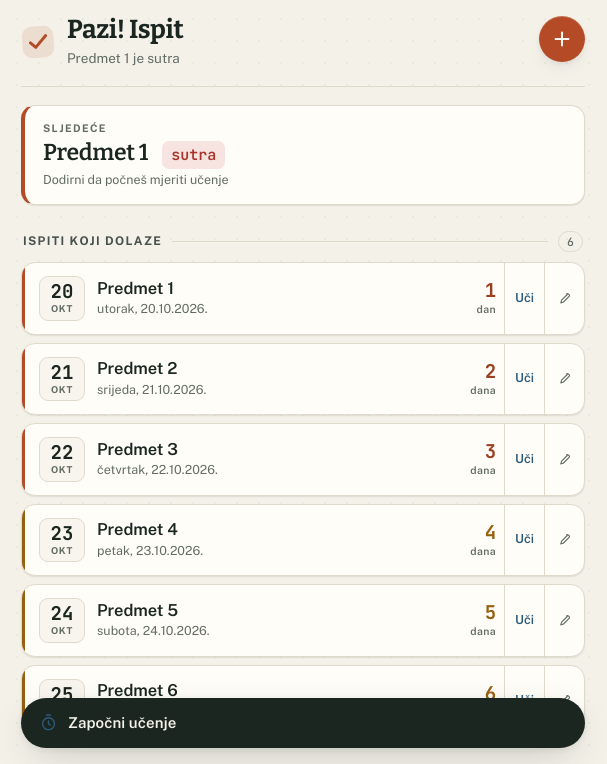
Test: Pazi! Ispit — tok korisnika › nudi sve predstojeće ispite u štoperici, ne samo prva četiri
This screenshot has width=607, height=764.
Step 1. Click the button "Započni učenje" → (122,722), box [21,698,585,748]
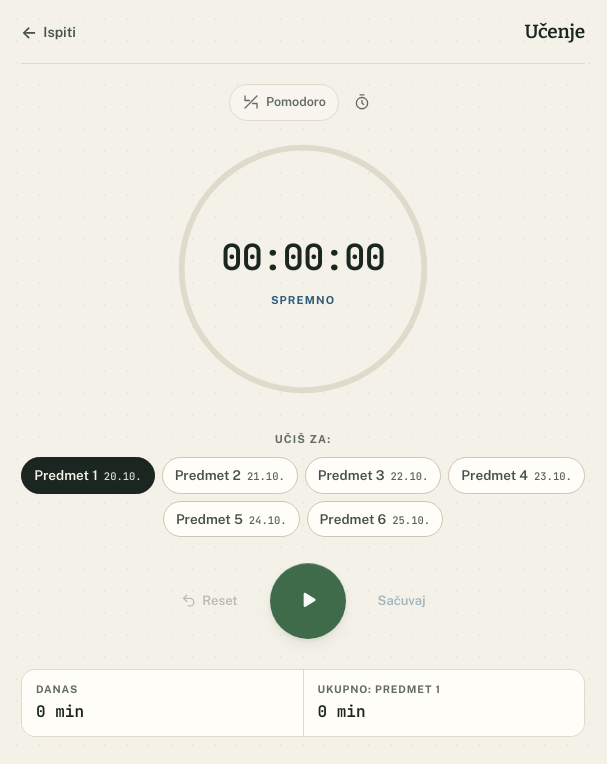
Now the number of options is 6, box [21,457,155,494]; [162,457,298,494]; [305,457,441,494]; [448,457,585,494]; [163,500,300,537]; [307,500,443,537]
